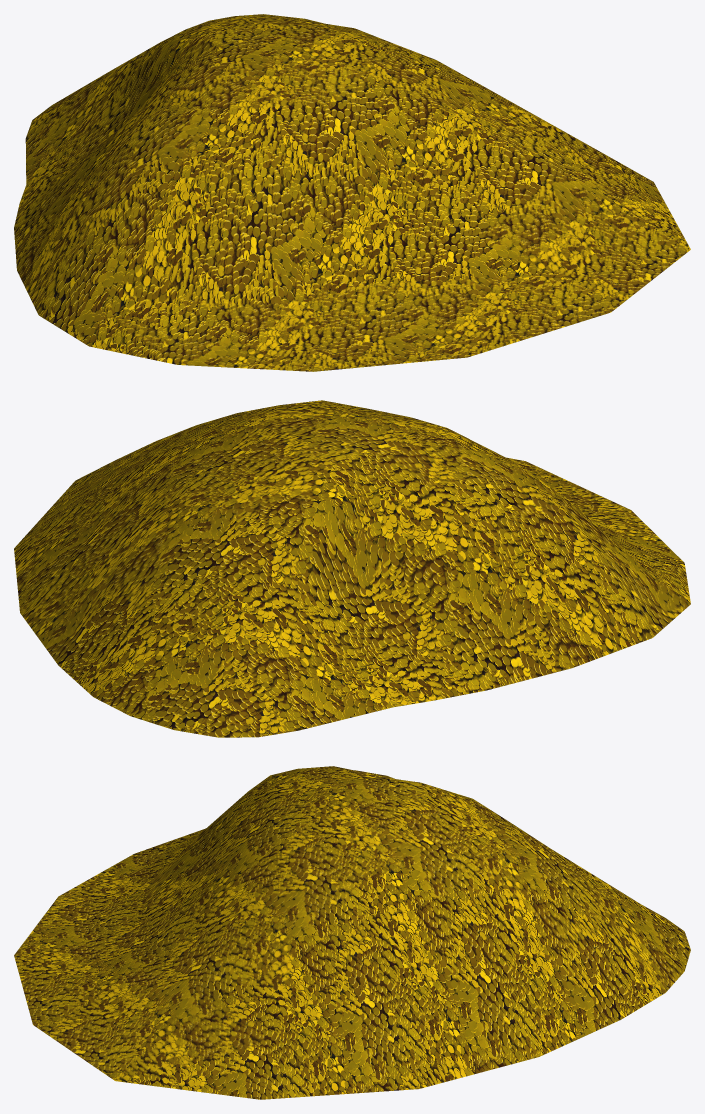
Rendered from INST_SM_GOLDPILE_LARGEB.fbx.
3 views of the same model, one above another, from view 1: azimuth 30°, elevation 25°; view 2: azimuth 150°, elevation 25°; view 3: azimuth 270°, elevation 25° (orthographic). The views are drawn at different scales.
Visible parts, largest first — view 1: INST_SM_GOLDPILE_LARGEB; view 2: INST_SM_GOLDPILE_LARGEB; view 3: INST_SM_GOLDPILE_LARGEB.
Boxes of the visible parts, x1,y1,x2,y2 form: INST_SM_GOLDPILE_LARGEB: [14, 14, 690, 371]; INST_SM_GOLDPILE_LARGEB: [14, 400, 690, 737]; INST_SM_GOLDPILE_LARGEB: [14, 766, 690, 1099].
Size of the model in its own units: 126250 by 35304 by 133750.
Materials: 1 (1 with a texture image).
